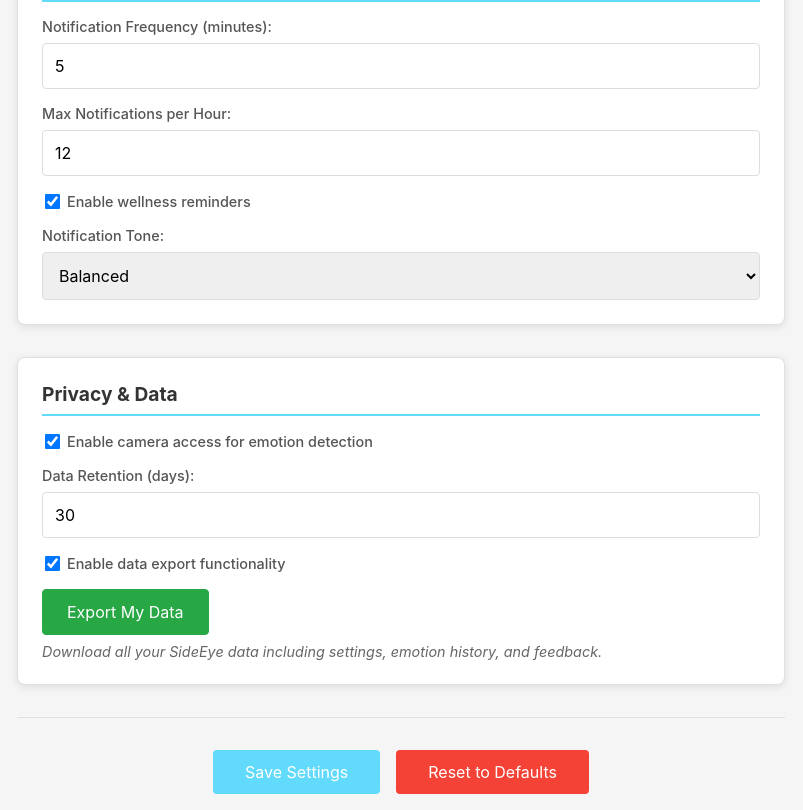
Test: SettingsPanel › saves settings to localStorage in browser mode
The width and height of the screenshot is (803, 810).
(page scrolled)
Click the button "Save Settings" at [297, 772], box x1=213 y1=750 x2=380 y2=794
(page scrolled)
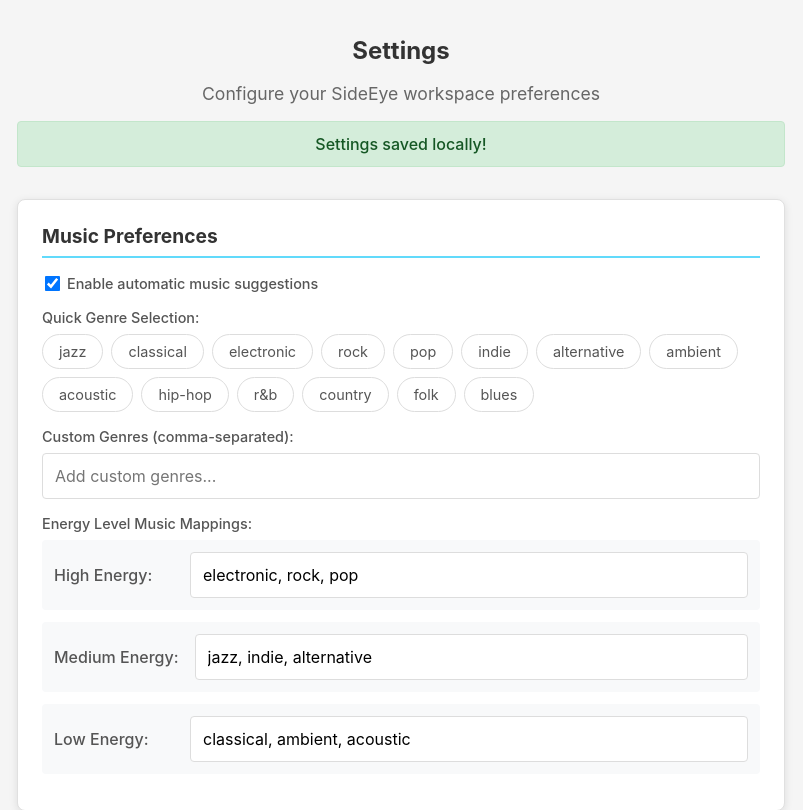
Result: the text "Settings saved locally!" is shown at x1=17 y1=121 x2=785 y2=167
